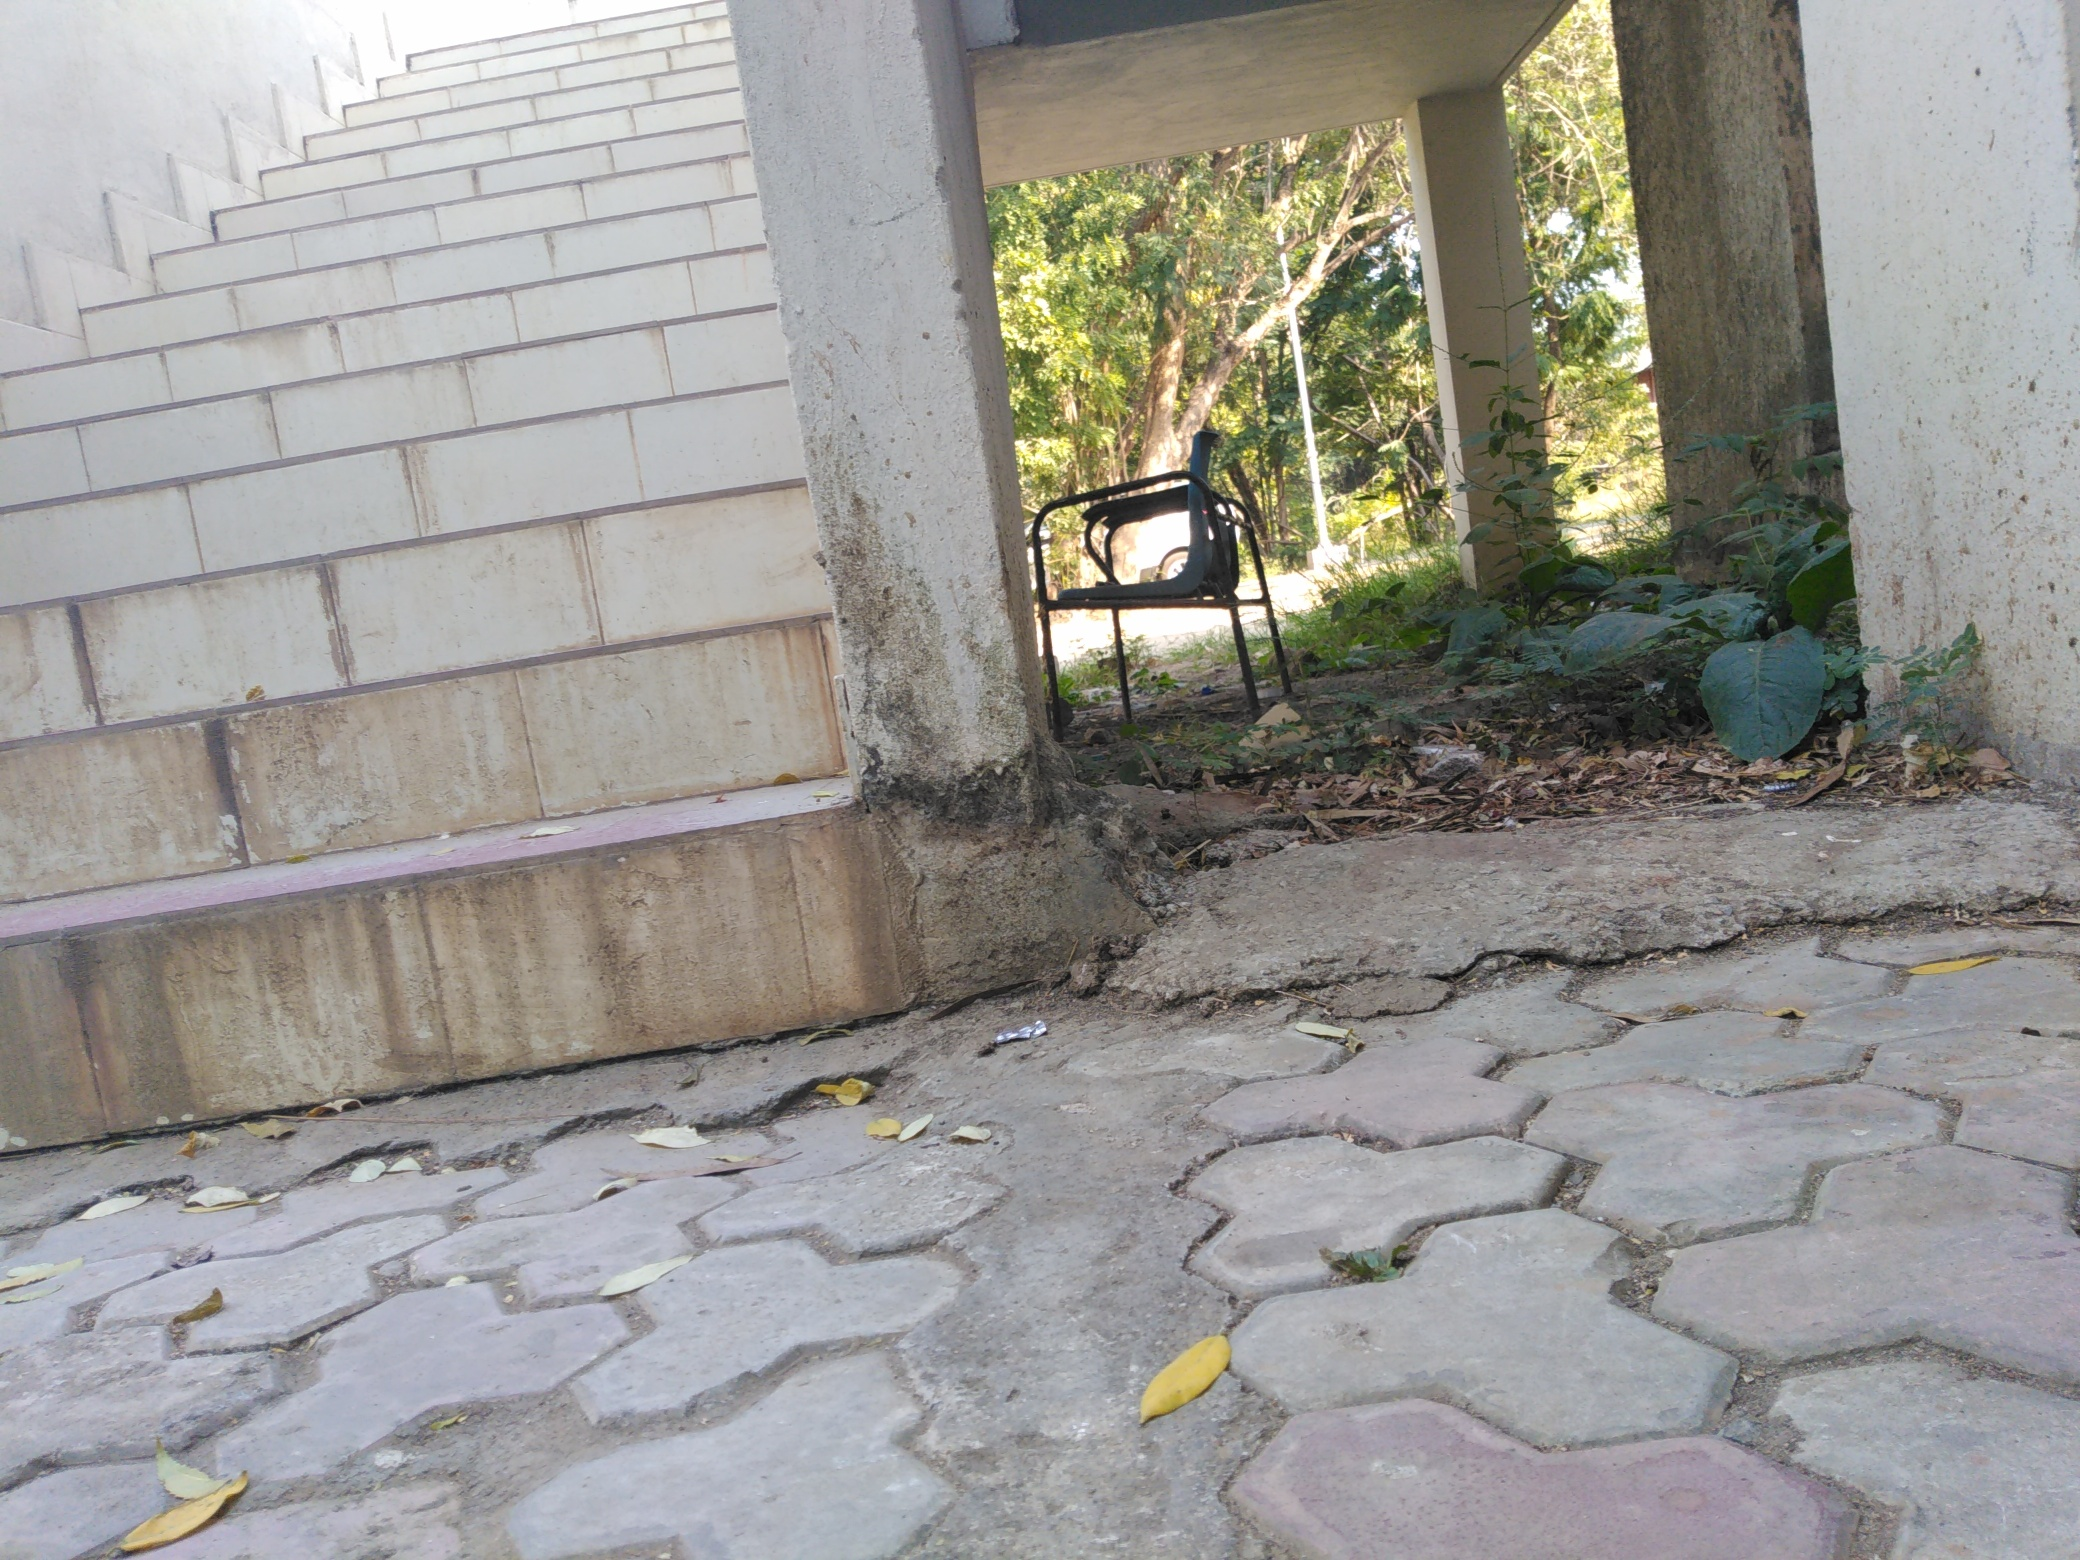stairs_up: (15, 26, 758, 1144)
